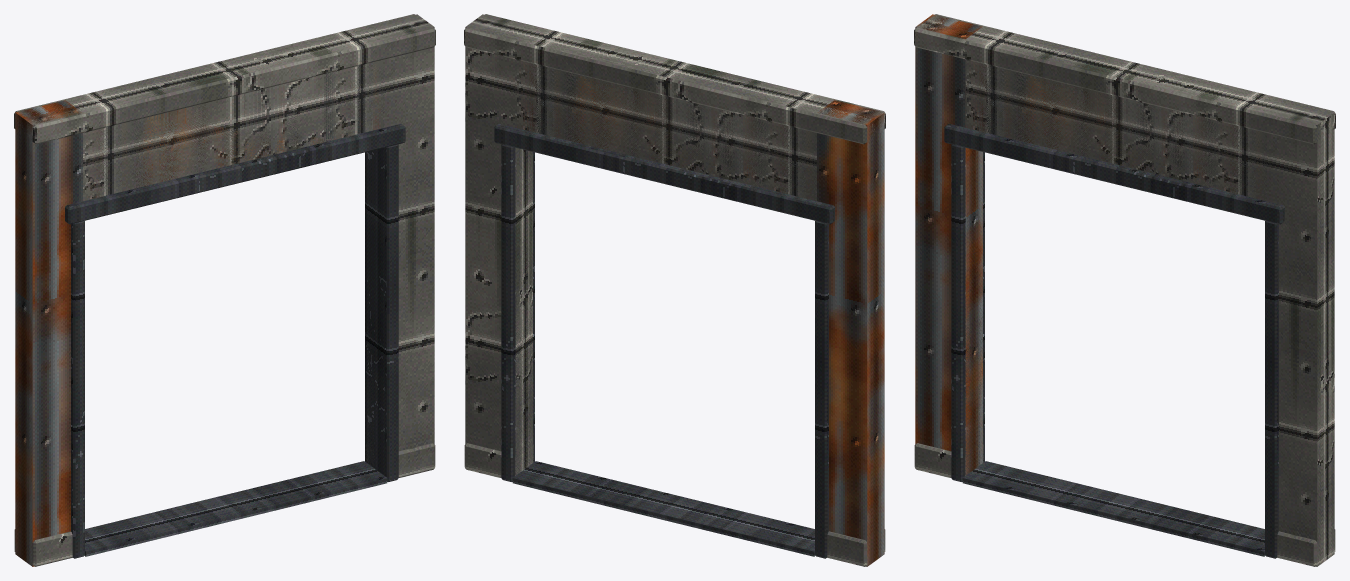
The model's file is wall_metal_door.glb.
The picture shows the model from 3 angles, left to right: view 1: azimuth 30°, elevation 25°; view 2: azimuth 150°, elevation 25°; view 3: azimuth 330°, elevation 25°; orthographic projection.
Parts seen in each view (by area): view 1: wall_metal_door_mesh, wall_metal_door_col-colonly.002, wall_metal_door_col-colonly.001; view 2: wall_metal_door_mesh, wall_metal_door_col-colonly.002, wall_metal_door_col-colonly.001; view 3: wall_metal_door_mesh, wall_metal_door_col-colonly.002, wall_metal_door_col-colonly.001.
Part boxes in pixels (x1,y1,x2,y2): wall_metal_door_mesh: [14, 14, 435, 566]; wall_metal_door_col-colonly.002: [66, 26, 384, 200]; wall_metal_door_col-colonly.001: [367, 14, 434, 464]; wall_metal_door_mesh: [464, 14, 885, 566]; wall_metal_door_col-colonly.002: [515, 26, 833, 200]; wall_metal_door_col-colonly.001: [465, 14, 532, 475]; wall_metal_door_mesh: [914, 14, 1335, 566]; wall_metal_door_col-colonly.002: [965, 26, 1283, 200]; wall_metal_door_col-colonly.001: [1267, 100, 1334, 566].
Size of what is drawn, in the model's own units: 4 by 4.2 by 0.44.
3 materials, 3 textured.
